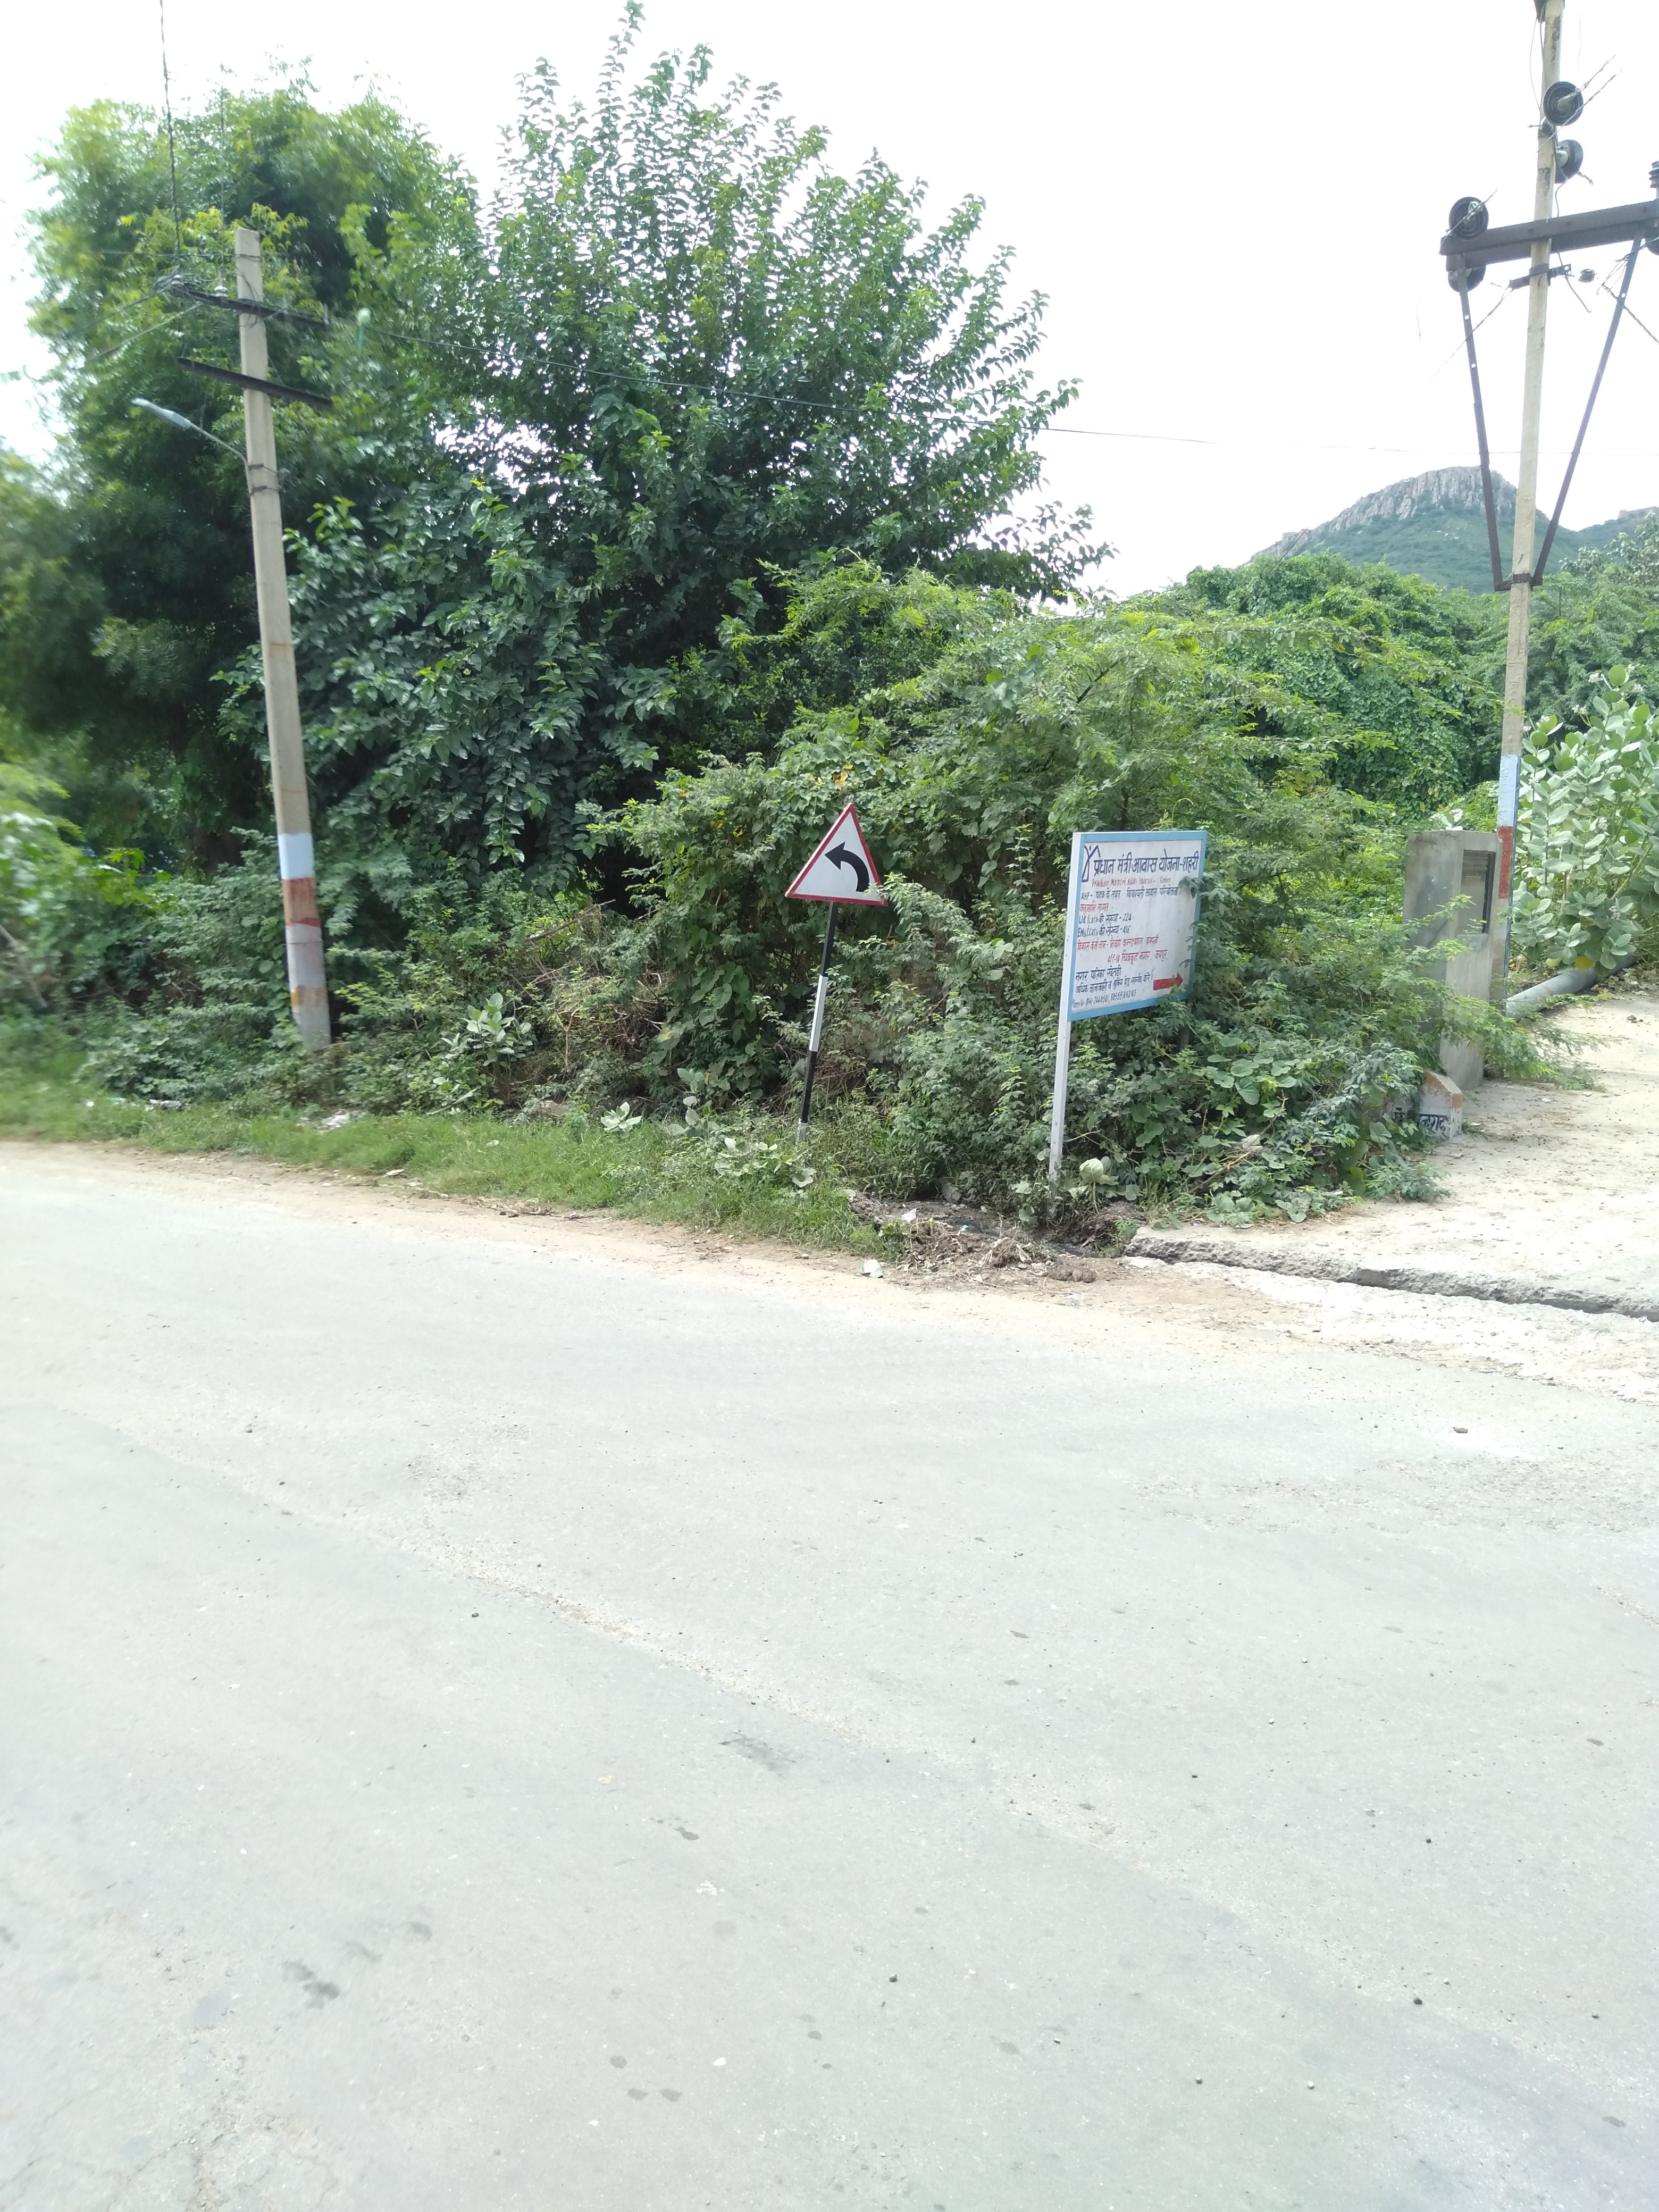traffic_sign: (782, 803, 887, 909)
